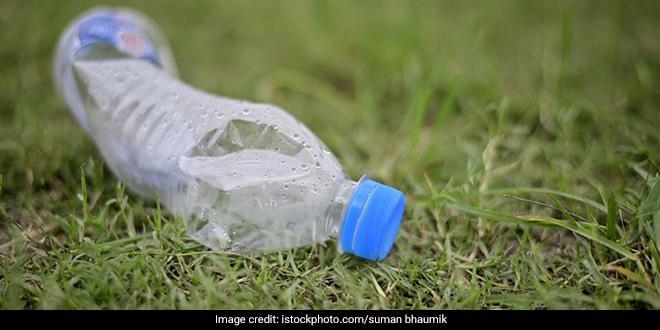bottle: (35, 0, 431, 261)
